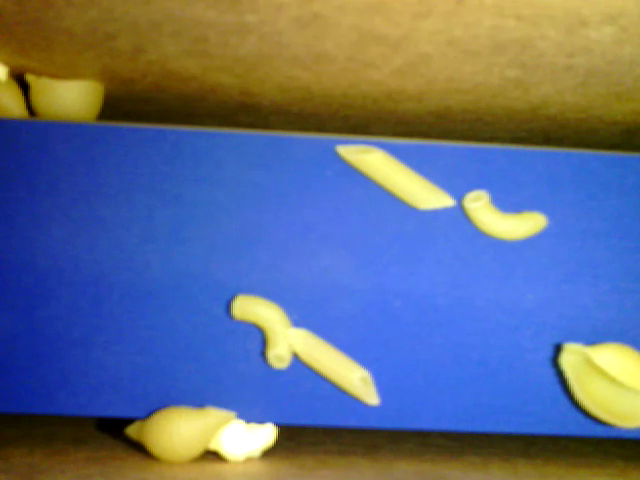elbow: (462, 186, 552, 245), (230, 290, 294, 368)
penne: (337, 141, 456, 214), (287, 325, 385, 410)
shell: (556, 335, 637, 431), (123, 404, 237, 463), (24, 72, 106, 125)
